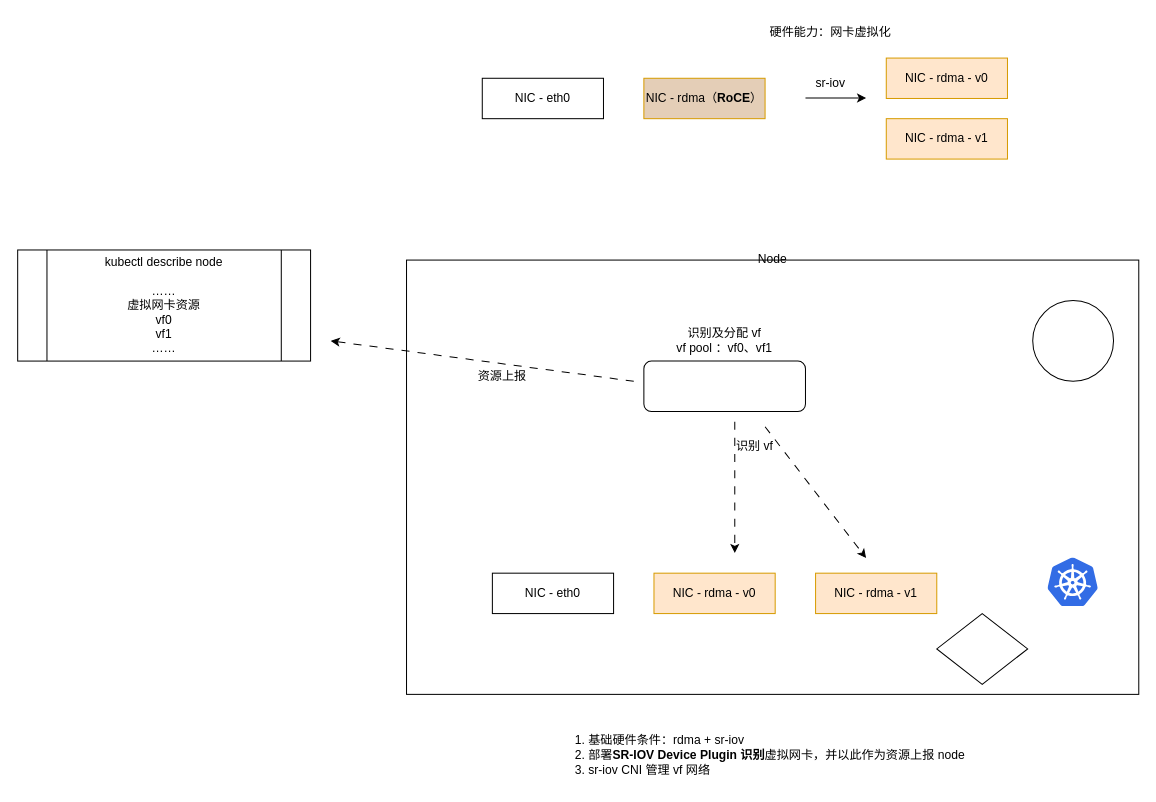
This 1156x802 diagram has some shape labels left out. The box of each missing label's shape, as (x1, y1, x2, y2) in pixels:
kubelet: (1047, 558, 1098, 606)
pod ---------- resource：vf=1: (1032, 299, 1114, 381)
SR-IOV Device Plugin: (643, 360, 805, 412)
sr-iov-cni: (936, 613, 1028, 684)
